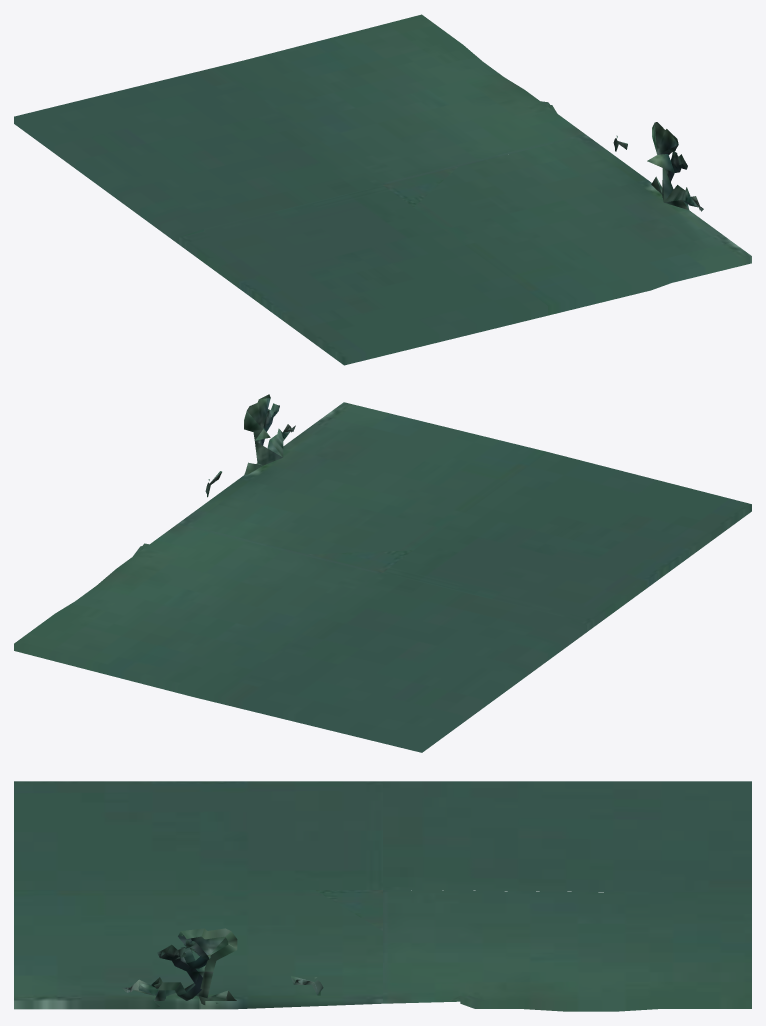
3 renders of one model, top to bottom at view 1: azimuth 30°, elevation 25°; view 2: azimuth 150°, elevation 25°; view 3: azimuth 270°, elevation 25°, orthographic. The views are drawn at different scales.
Parts seen in each view (by area): view 1: 3043627270437063671_0; view 2: 3043627270437063671_0; view 3: 3043627270437063671_0.
Part boxes in pixels (left/top/right/bottom): 3043627270437063671_0: left=14, top=14, right=751, bottom=365; 3043627270437063671_0: left=14, top=394, right=751, bottom=752; 3043627270437063671_0: left=14, top=781, right=751, bottom=1011.
Bounding box in the file's own units: 54.63 × 9.58 × 76.53.
1 material, 1 textured.
